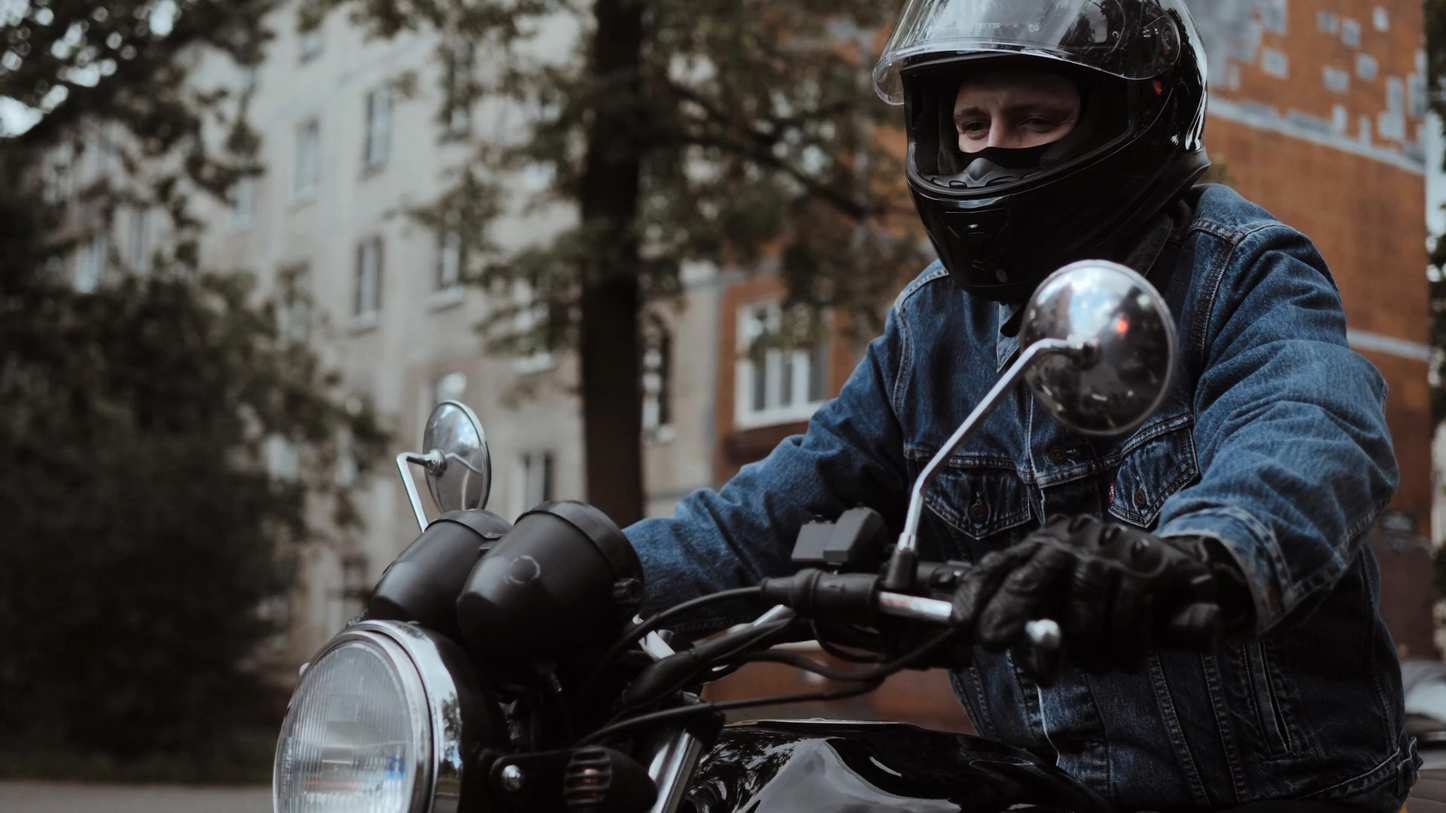driver: (269, 0, 1429, 813)
helmet: (871, 0, 1213, 340)
